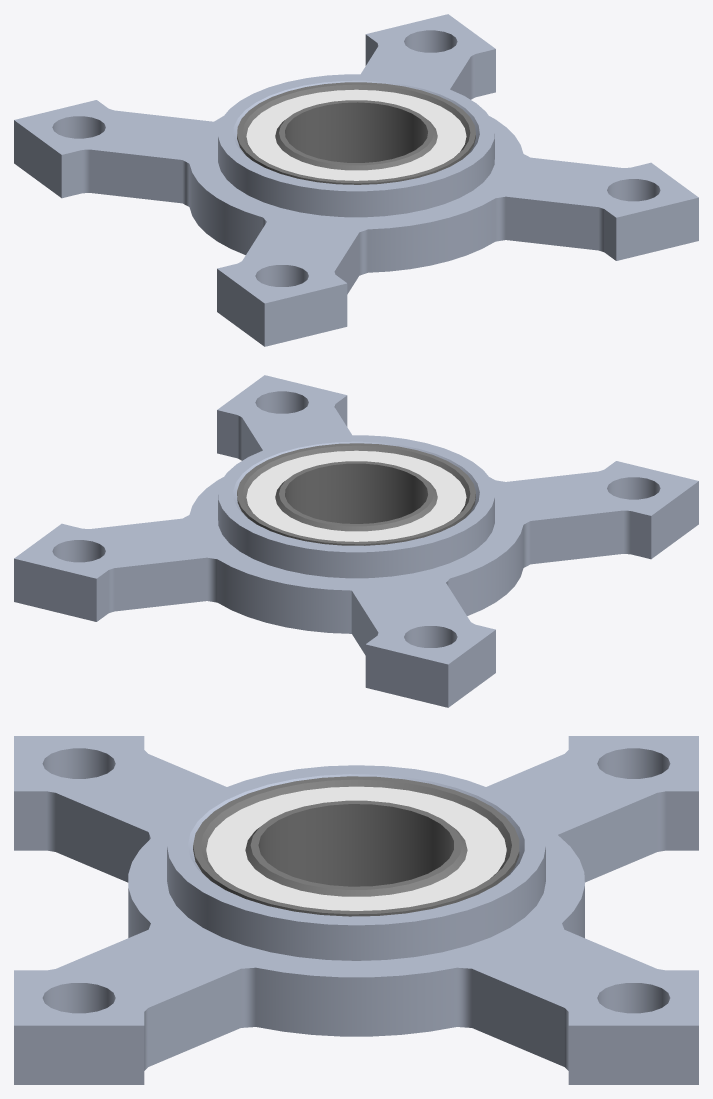
Rendered from ROB-12260.obj.
3 views of the same model, one above another, from view 1: azimuth 30°, elevation 25°; view 2: azimuth 150°, elevation 25°; view 3: azimuth 270°, elevation 25° (orthographic). The views are drawn at different scales.
Visible parts, largest first — view 1: mesh 1 RO, mesh 2 Boss-Extrude3, mesh 3 Chamfer2; view 2: mesh 1 RO, mesh 2 Boss-Extrude3, mesh 3 Chamfer2; view 3: mesh 1 RO, mesh 2 Boss-Extrude3, mesh 3 Chamfer2.
Boxes of the visible parts, x1,y1,x2,y2 form: mesh 1 RO: (14, 14, 698, 346); mesh 2 Boss-Extrude3: (237, 82, 475, 184); mesh 3 Chamfer2: (246, 89, 466, 180); mesh 1 RO: (14, 375, 698, 707); mesh 2 Boss-Extrude3: (237, 443, 475, 545); mesh 3 Chamfer2: (246, 450, 466, 541); mesh 1 RO: (14, 736, 698, 1084); mesh 2 Boss-Extrude3: (193, 776, 519, 916); mesh 3 Chamfer2: (206, 786, 506, 910).
Size of the model in its own units: 0.0333 by 0.00508 by 0.0333.
